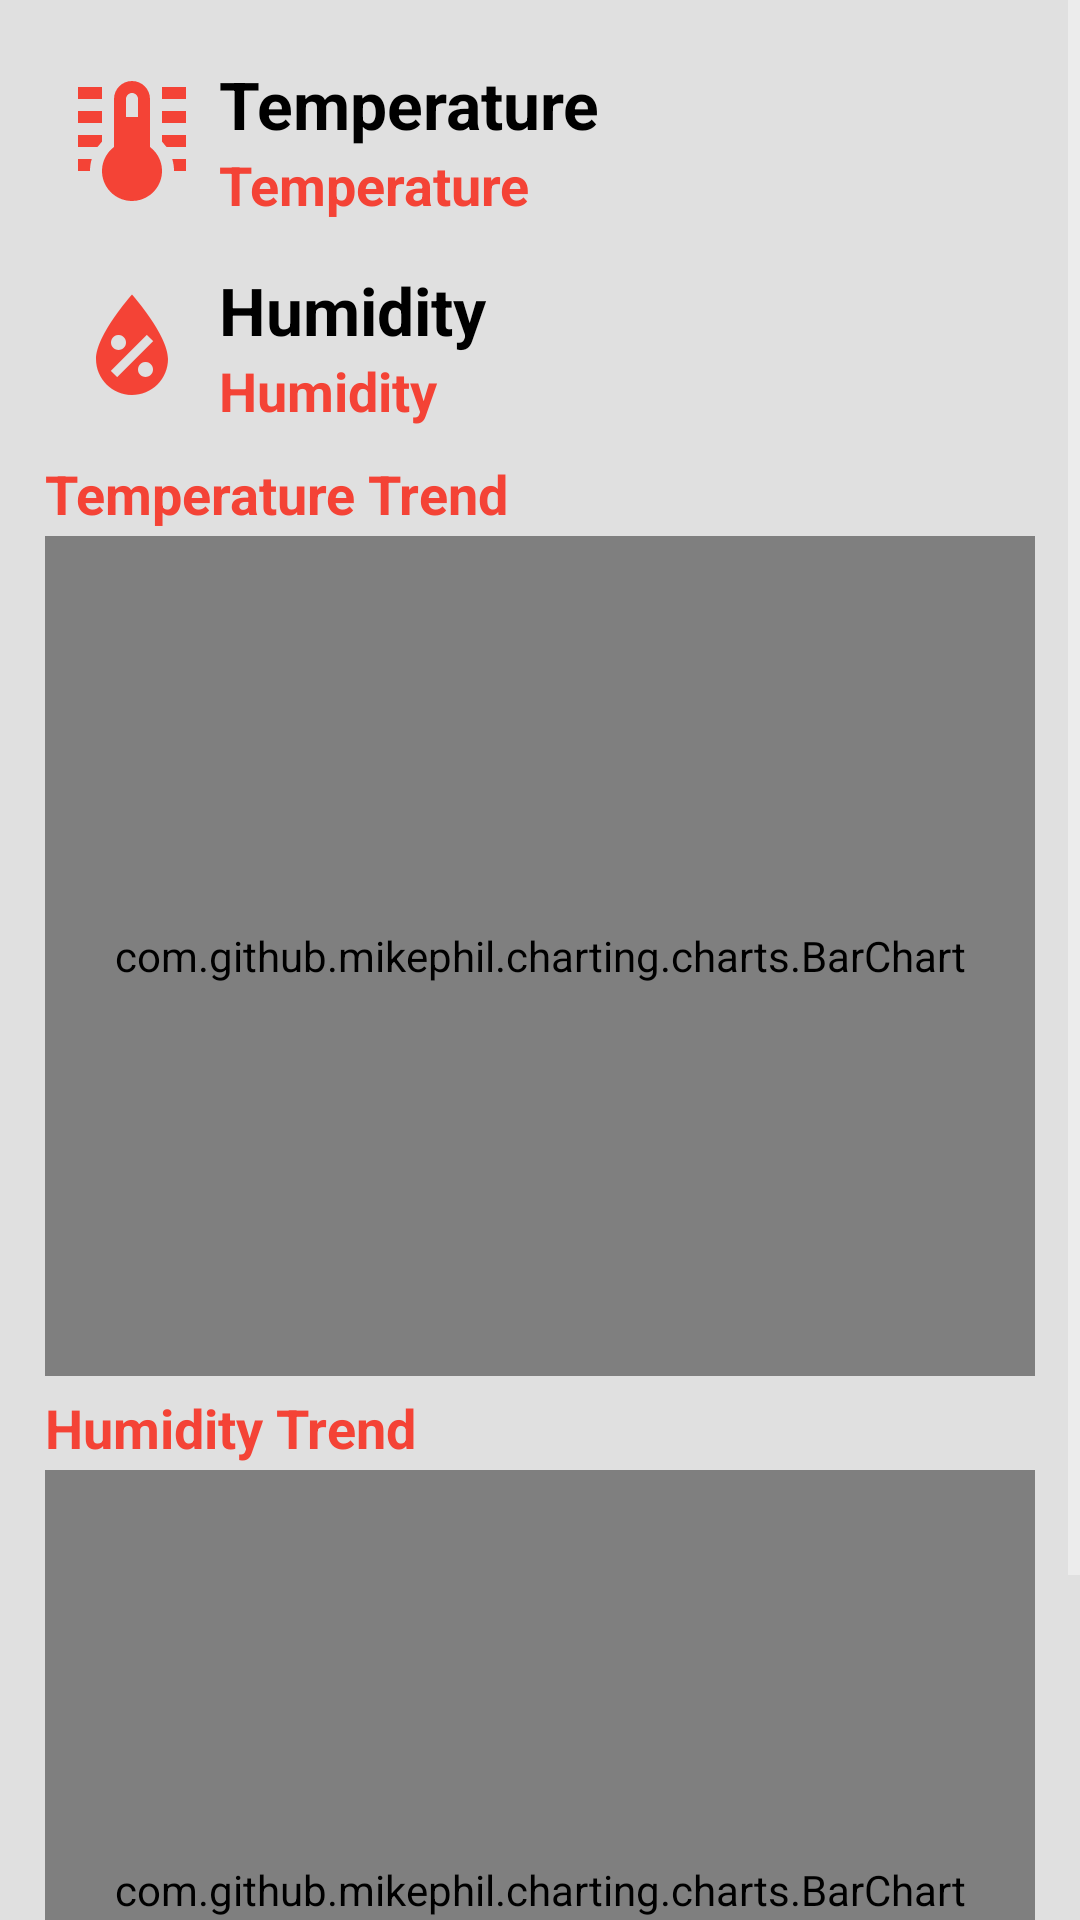

Screen size 1080 × 1920. Icon name, then its box in pixels as (x1, y1, x2, y2):
hum: (96, 295, 168, 395)
